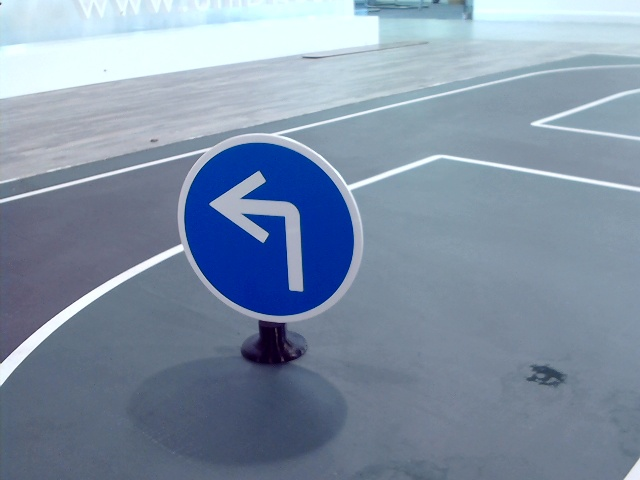turn_left: (207, 162, 317, 293)
